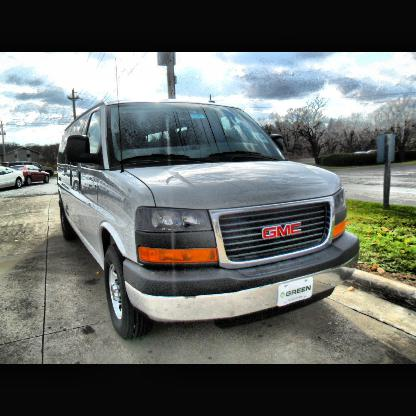GMC Savana Van 2012: (56, 97, 362, 344)
